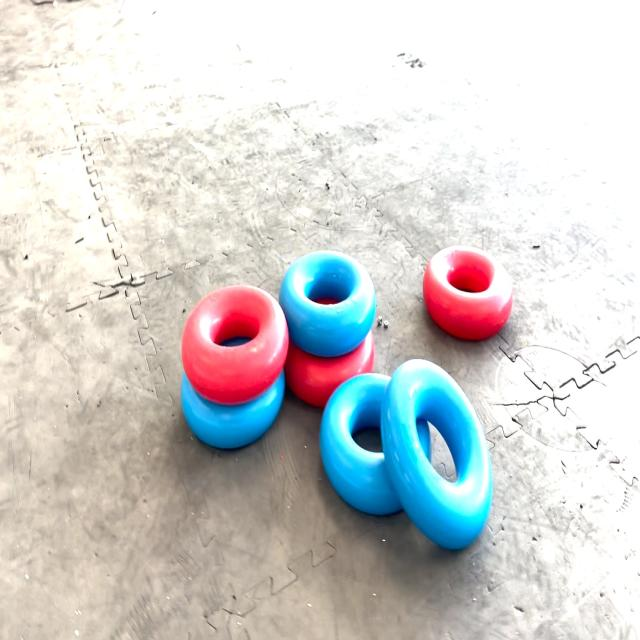Blue-Ring: (381, 360, 492, 549), (320, 373, 402, 516), (279, 251, 376, 358), (181, 371, 285, 449)
Red-Ring: (181, 287, 289, 404), (422, 247, 512, 340), (284, 331, 375, 407)
